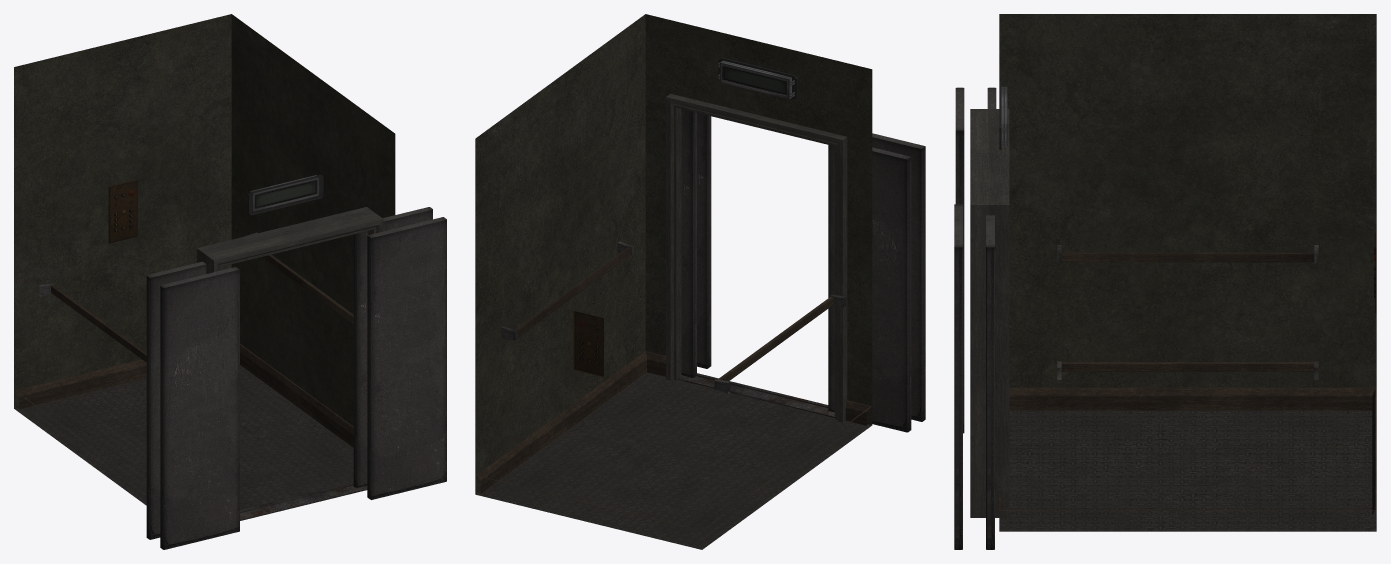
The model's file is elevator_1.fbx.
The picture shows the model from 3 angles, left to right: view 1: azimuth 30°, elevation 25°; view 2: azimuth 150°, elevation 25°; view 3: azimuth 270°, elevation 25°; orthographic projection. The views are drawn at different scales.
Parts seen in each view (by area): view 1: elevator_1, elevator_door_1_a, elevator_door_1_b, elevator_door_2_b, elevator_door_2_a; view 2: elevator_1, elevator_door_2_b, elevator_door_1_b, elevator_door_2_a, elevator_door_1_a; view 3: elevator_1, elevator_door_1_a, elevator_door_2_a, elevator_door_1_b.
Boxes of the visible parts, <box> form: elevator_1: <box>14,14,395,520</box>; elevator_door_1_a: <box>367,217,446,499</box>; elevator_door_1_b: <box>160,267,239,549</box>; elevator_door_2_b: <box>146,261,225,539</box>; elevator_door_2_a: <box>353,207,432,487</box>; elevator_1: <box>475,14,872,549</box>; elevator_door_2_b: <box>828,145,911,432</box>; elevator_door_1_b: <box>872,133,925,421</box>; elevator_door_2_a: <box>681,109,696,377</box>; elevator_door_1_a: <box>697,113,711,368</box>; elevator_1: <box>970,14,1376,531</box>; elevator_door_1_a: <box>954,204,962,549</box>; elevator_door_2_a: <box>986,215,994,549</box>; elevator_door_1_b: <box>955,87,964,433</box>.
Size of the model in its own units: 2.6 by 2.91 by 3.
